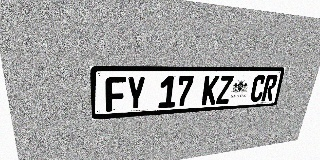1: (158, 76, 177, 108)
7: (175, 76, 194, 107)
C: (249, 75, 267, 102)
F: (105, 77, 126, 112)
K: (201, 76, 220, 105)
R: (261, 75, 278, 101)
Y: (126, 76, 146, 110)
Z: (216, 75, 234, 104)
